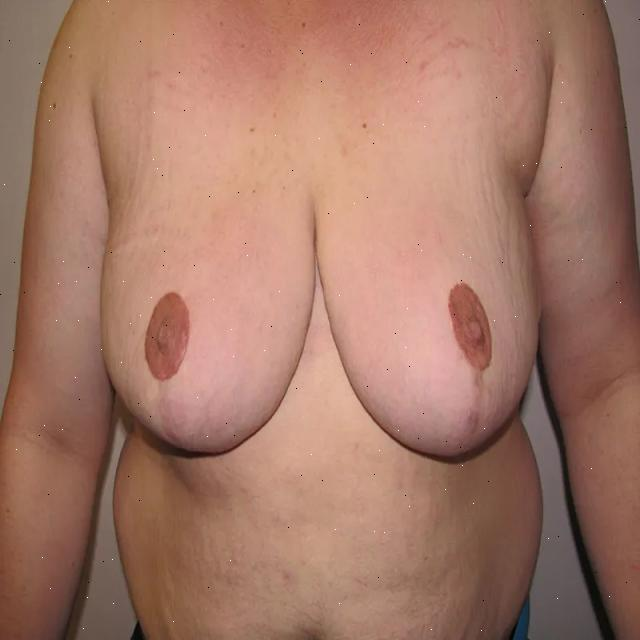Seno herido: (316, 126, 544, 489), (93, 126, 314, 489)
